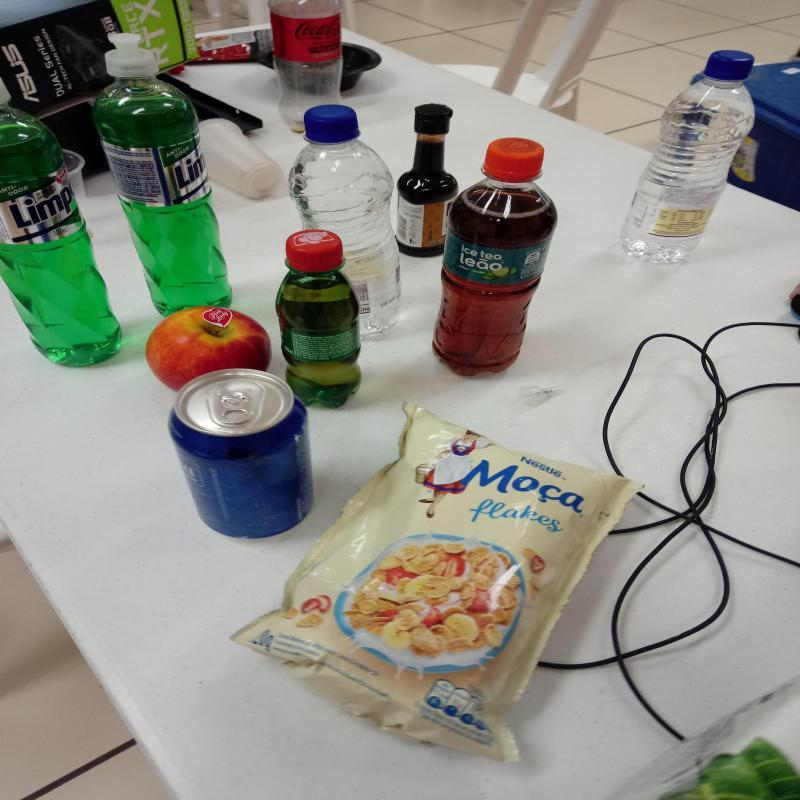Apple: (145, 306, 272, 394)
Cleaner: (92, 33, 231, 317), (0, 110, 122, 369)
CornFlakes: (229, 403, 644, 769)
EnglishSauce: (393, 104, 459, 257)
Guarana: (275, 228, 362, 410)
IceTea: (433, 138, 558, 379)
Tonic: (167, 368, 315, 542)
Water: (618, 52, 756, 270), (288, 105, 400, 339)
